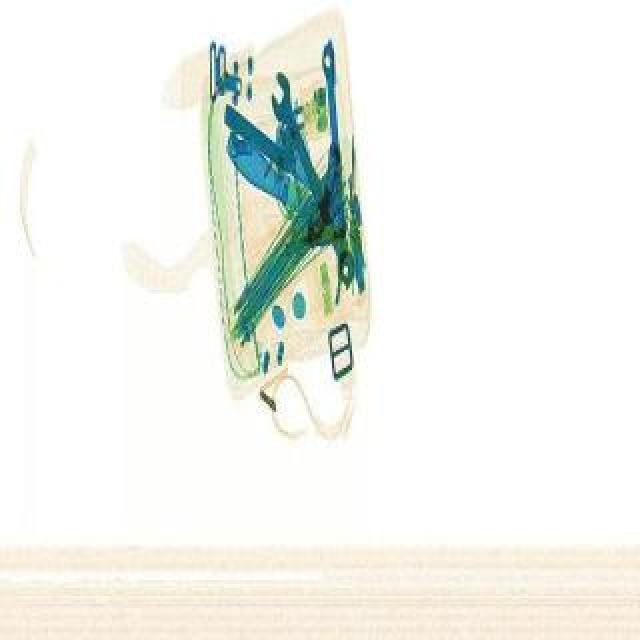gun: (282, 220, 368, 298)
knife: (216, 100, 348, 210), (214, 126, 342, 234)
scissors: (262, 68, 366, 284), (322, 44, 354, 284)
